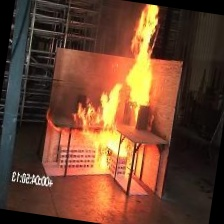fire: (70, 0, 175, 184)
